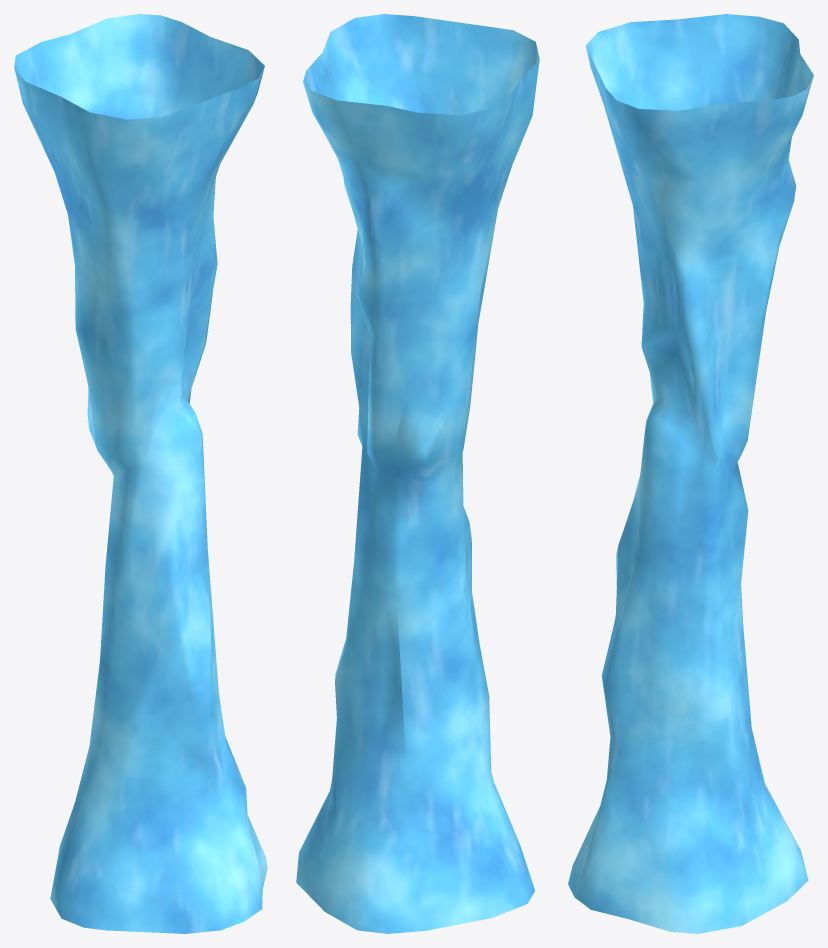
File: SM_Ice_Pillar_2.glb
The picture shows the model from 3 angles, left to right: view 1: azimuth 30°, elevation 25°; view 2: azimuth 150°, elevation 25°; view 3: azimuth 270°, elevation 25°; orthographic projection.
Parts seen in each view (by area): view 1: SM_Ice_Pillar_2; view 2: SM_Ice_Pillar_2; view 3: SM_Ice_Pillar_2.
Part boxes in pixels (<box>): SM_Ice_Pillar_2: <box>14,14,267,933</box>; SM_Ice_Pillar_2: <box>296,14,539,933</box>; SM_Ice_Pillar_2: <box>568,14,813,933</box>.
Bounding box in the file's own units: 1.73 × 6.2 × 1.7.
1 material, 1 textured.
